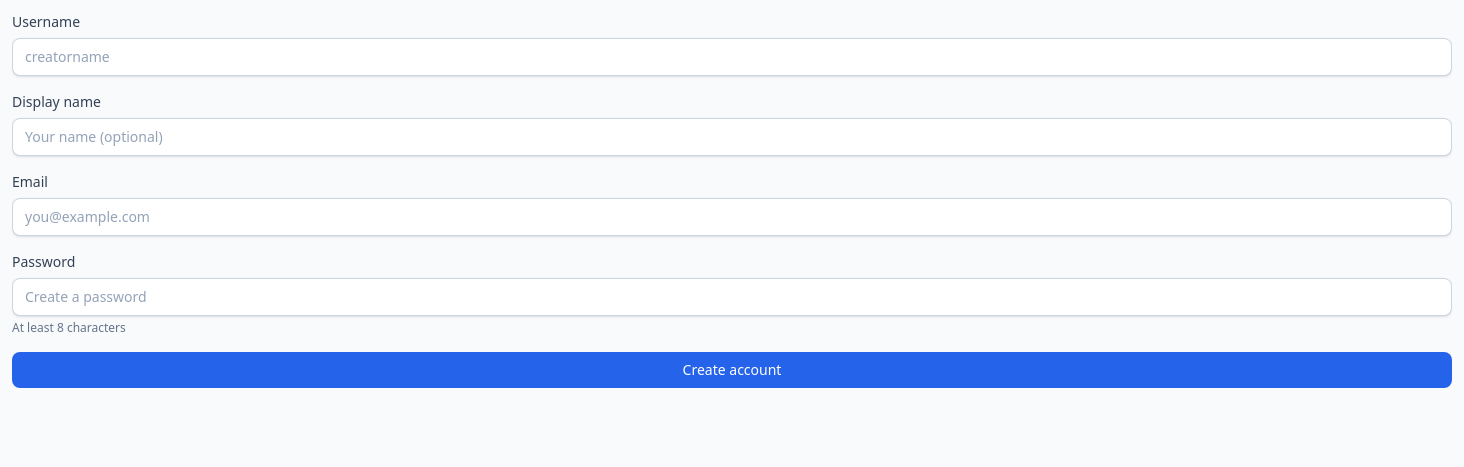
Test: RegisterForm › surfaces a backend error message inline
Type "alice" into the field labelled "Username" at {"x": 732, "y": 57}, box [12,38,1452,76]
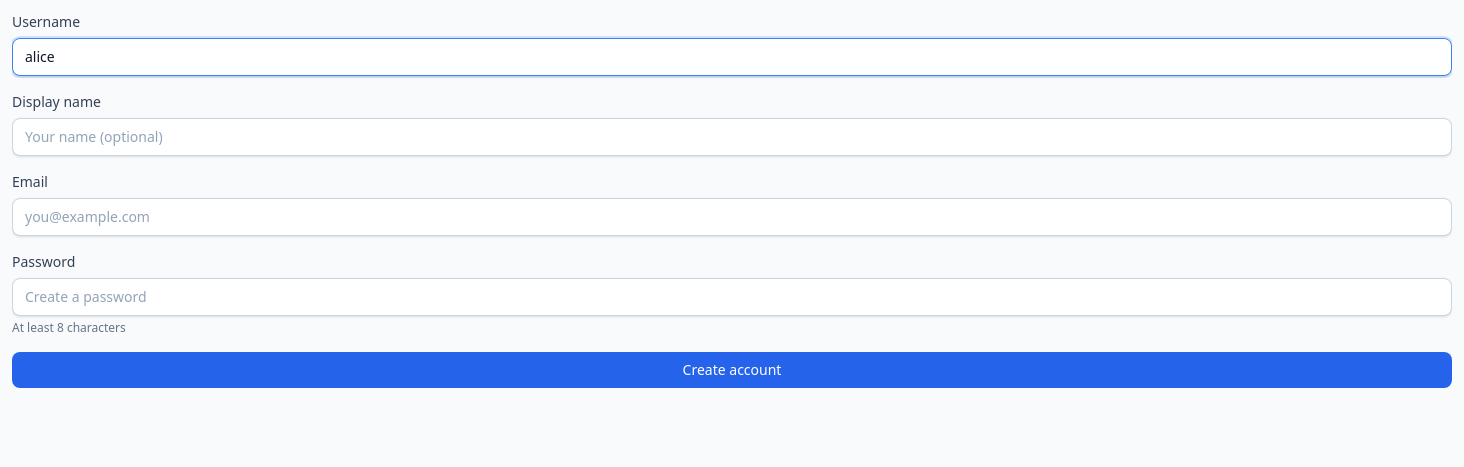
Type "alice@example.com" into the field labelled "Email" at {"x": 732, "y": 217}, box [12,198,1452,236]
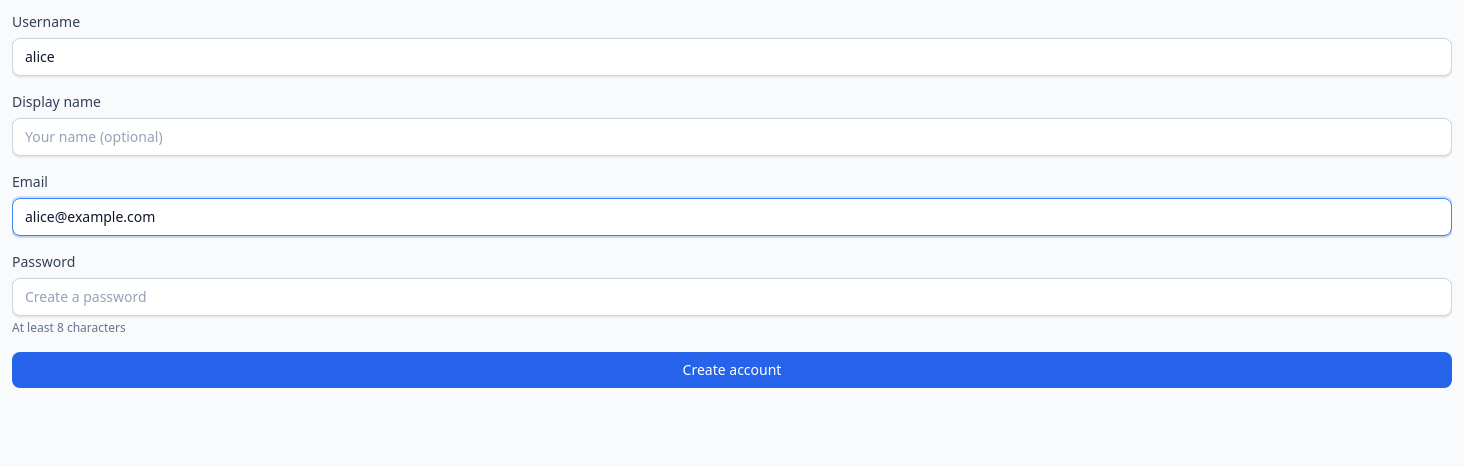
Type "password123" into the password field labelled "Password" at {"x": 732, "y": 297}, box [12,278,1452,316]
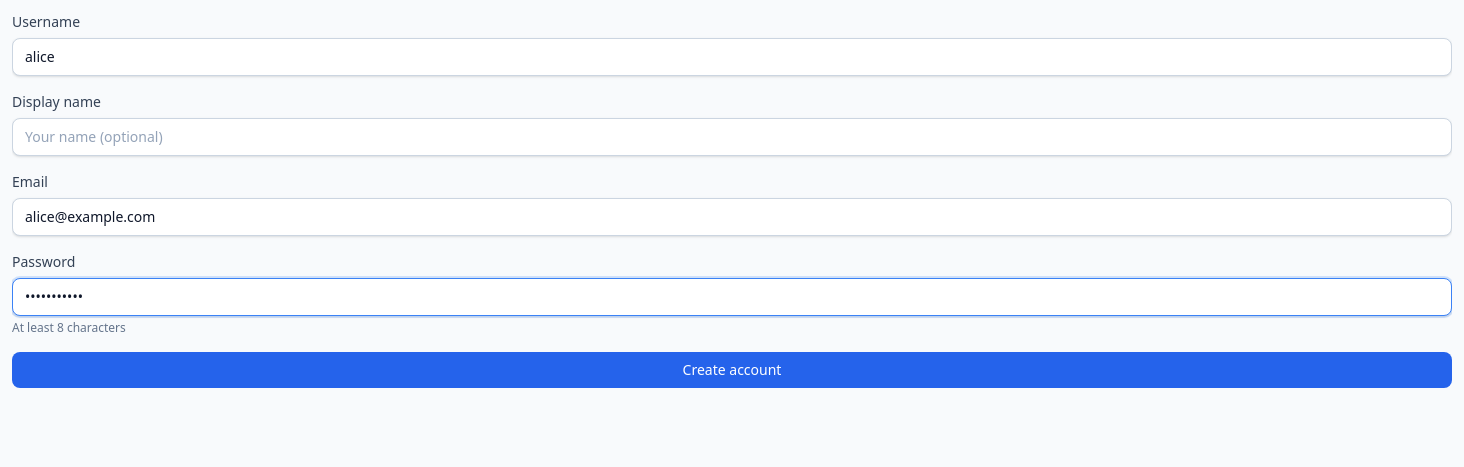
Click the button "Create account" at {"x": 732, "y": 370}, box [12,352,1452,388]
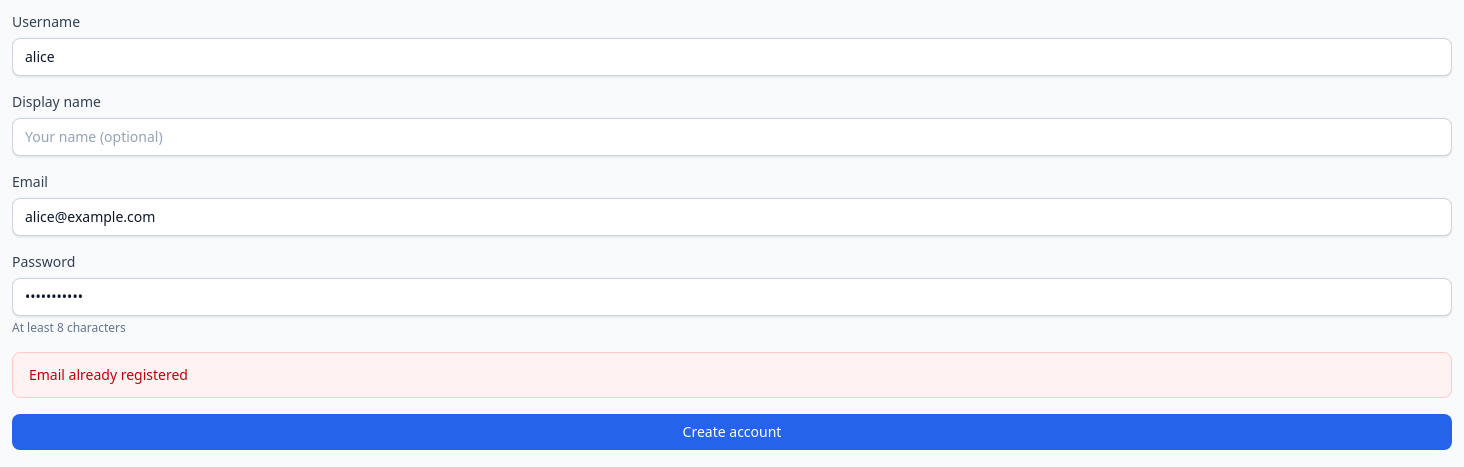
Check: the message reads "Email already registered", box [29,365,188,384]
